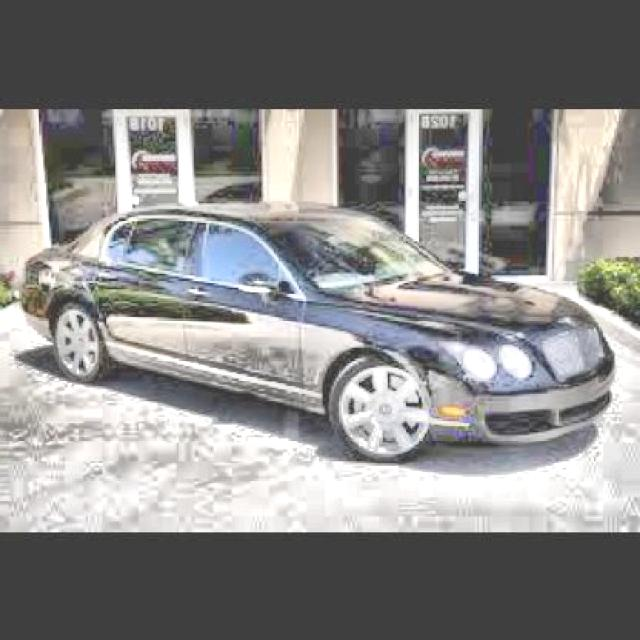black: (0, 192, 621, 420)
